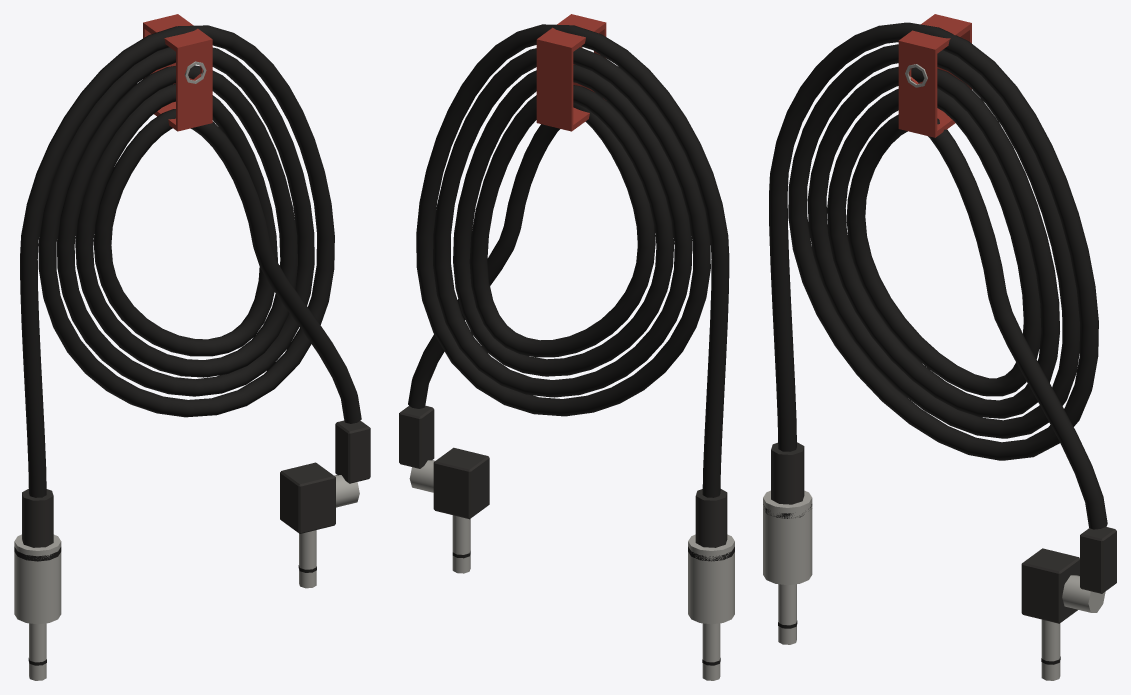
Rendered from cable-coil-small-jack-7c5fce3e744b.glb.
3 views of the same model, side by side, from view 1: azimuth 30°, elevation 25°; view 2: azimuth 150°, elevation 25°; view 3: azimuth 330°, elevation 25° (orthographic). The views are drawn at different scales.
Parts seen in each view (by area): view 1: rubber, plastic-dark, brushed, accent-warm; view 2: rubber, plastic-dark, brushed, accent-warm; view 3: rubber, brushed, plastic-dark, accent-warm.
Part boxes in pixels (bbox=[...]): rubber: bbox=[14, 25, 361, 665]; plastic-dark: bbox=[22, 420, 370, 547]; brushed: bbox=[14, 61, 359, 680]; accent-warm: bbox=[143, 14, 212, 131]; rubber: bbox=[408, 24, 734, 665]; plastic-dark: bbox=[399, 405, 727, 547]; brushed: bbox=[409, 47, 734, 680]; accent-warm: bbox=[536, 14, 606, 131]; rubber: bbox=[763, 22, 1107, 664]; brushed: bbox=[763, 64, 1105, 680]; plastic-dark: bbox=[771, 442, 1116, 623]; accent-warm: bbox=[898, 14, 971, 137].
Bounding box in the file's own units: 0.1346 × 0.2359 × 0.026.
